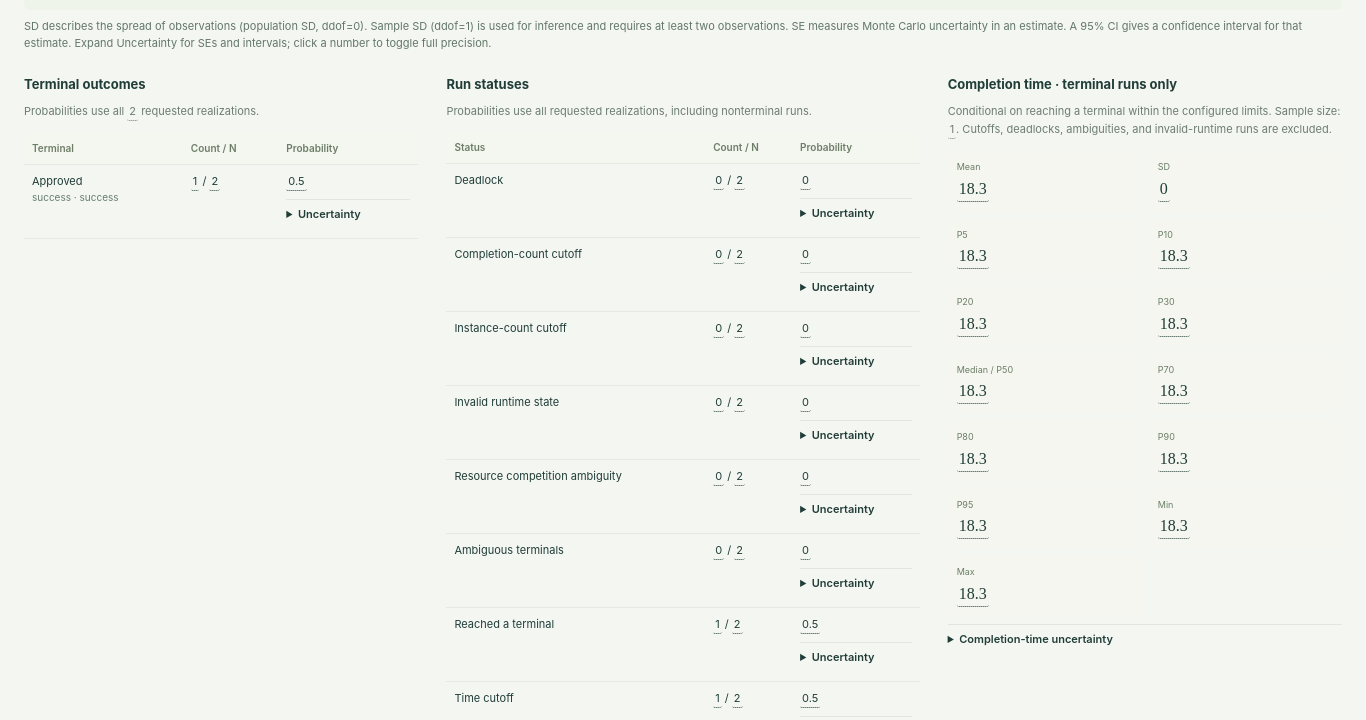
statistical results › exposes Wilson uncertainty for terminal, status and activity probabilities, including zero SE
Step 1. Click the heading named "Terminal success probability uncertainty" → coordinates (329, 214), box [298,207,361,221]
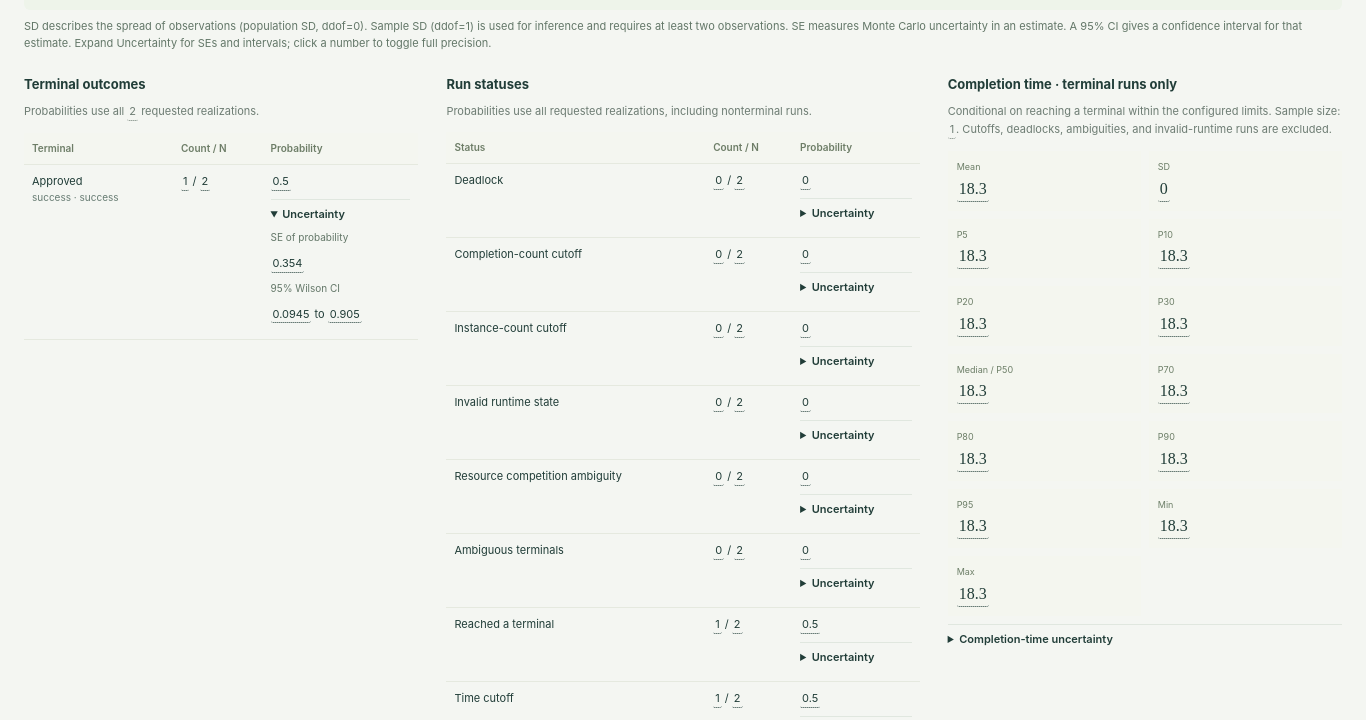
expect the text "SE of probability" is shown: met, box [270,231,348,243]
expect the text "95% Wilson CI" is shown: met, box [270,282,340,294]
Step 2. Click the heading named "Reached a terminal probability uncertainty" → coordinates (843, 657), box [812,650,875,664]
(page scrolled)
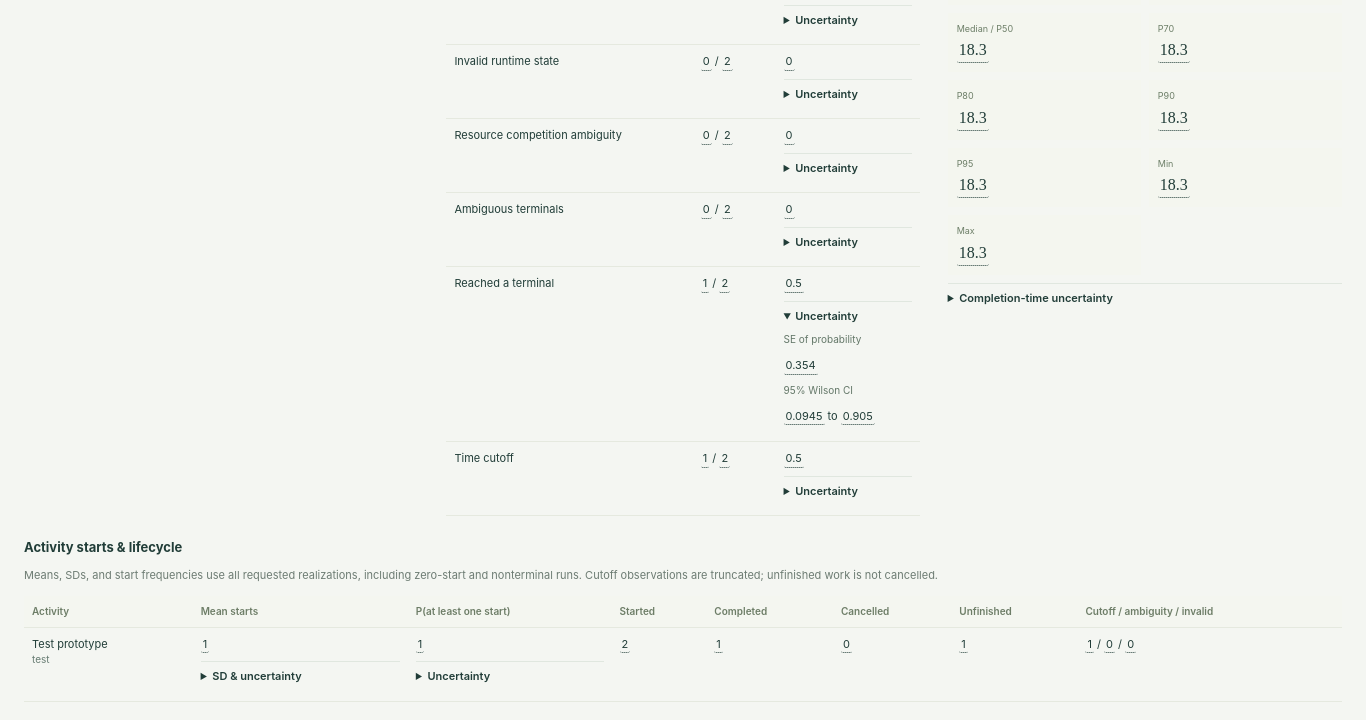
expect the text "SE of probability" is shown: met, box [784,333,861,345]
expect the text "95% Wilson CI" below "Reached a terminal" is shown: met, box [784,384,853,396]
Step 3. Click the heading named "Time cutoff probability uncertainty" → coordinates (827, 491), box [795,484,858,498]
(page scrolled)
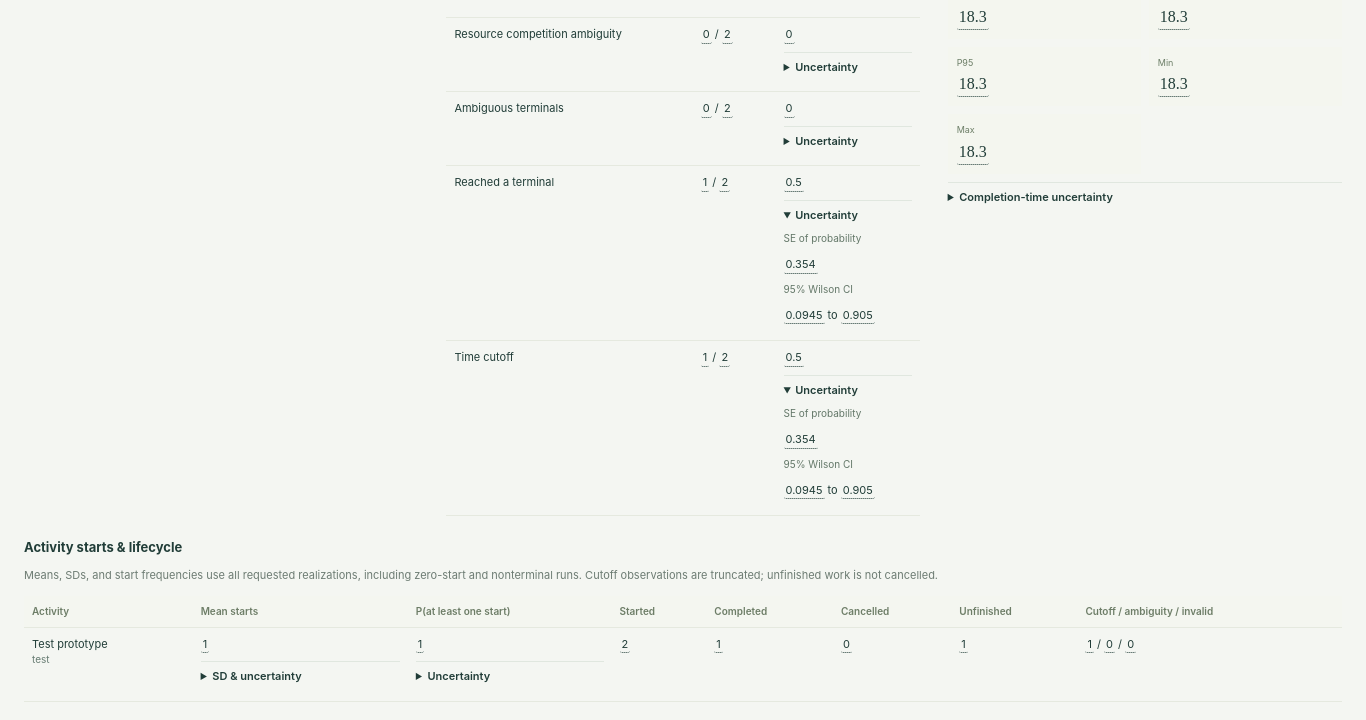
expect the 2nd text "SE of probability" is shown: met, box [784,407,861,419]
expect the 2nd text "95% Wilson CI" is shown: met, box [784,458,853,470]
Step 4. Click the heading named "test at least one start probability uncertainty" → coordinates (459, 676), box [427,670,490,684]
(page scrolled)
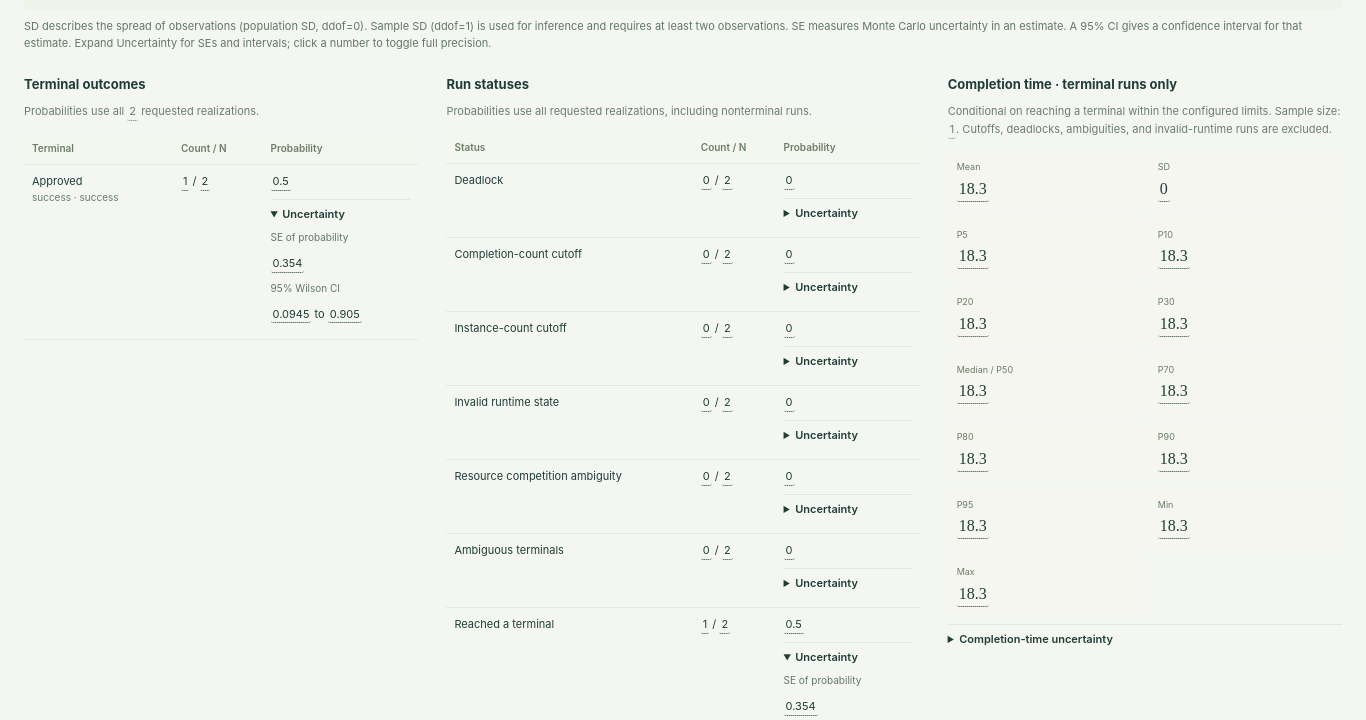
Step 5. Click the button "0.0945" → coordinates (291, 315), box [270,306,312,323]
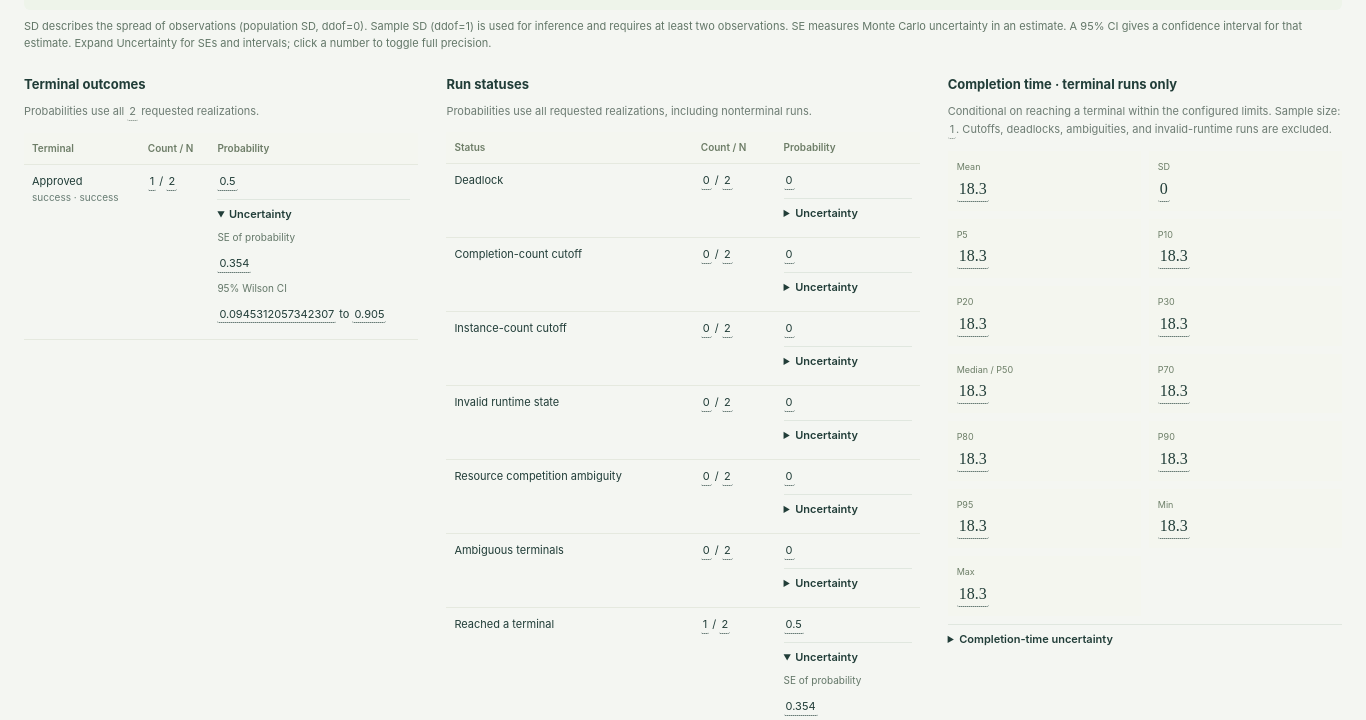
expect the button "0.0945312057342307" is shown: met, box [217,306,336,323]
